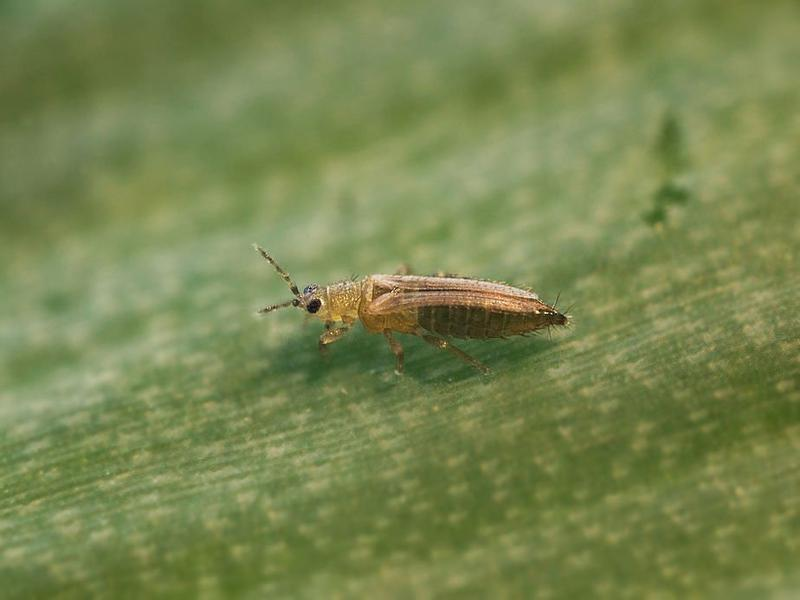Thrips: (237, 246, 608, 394)
